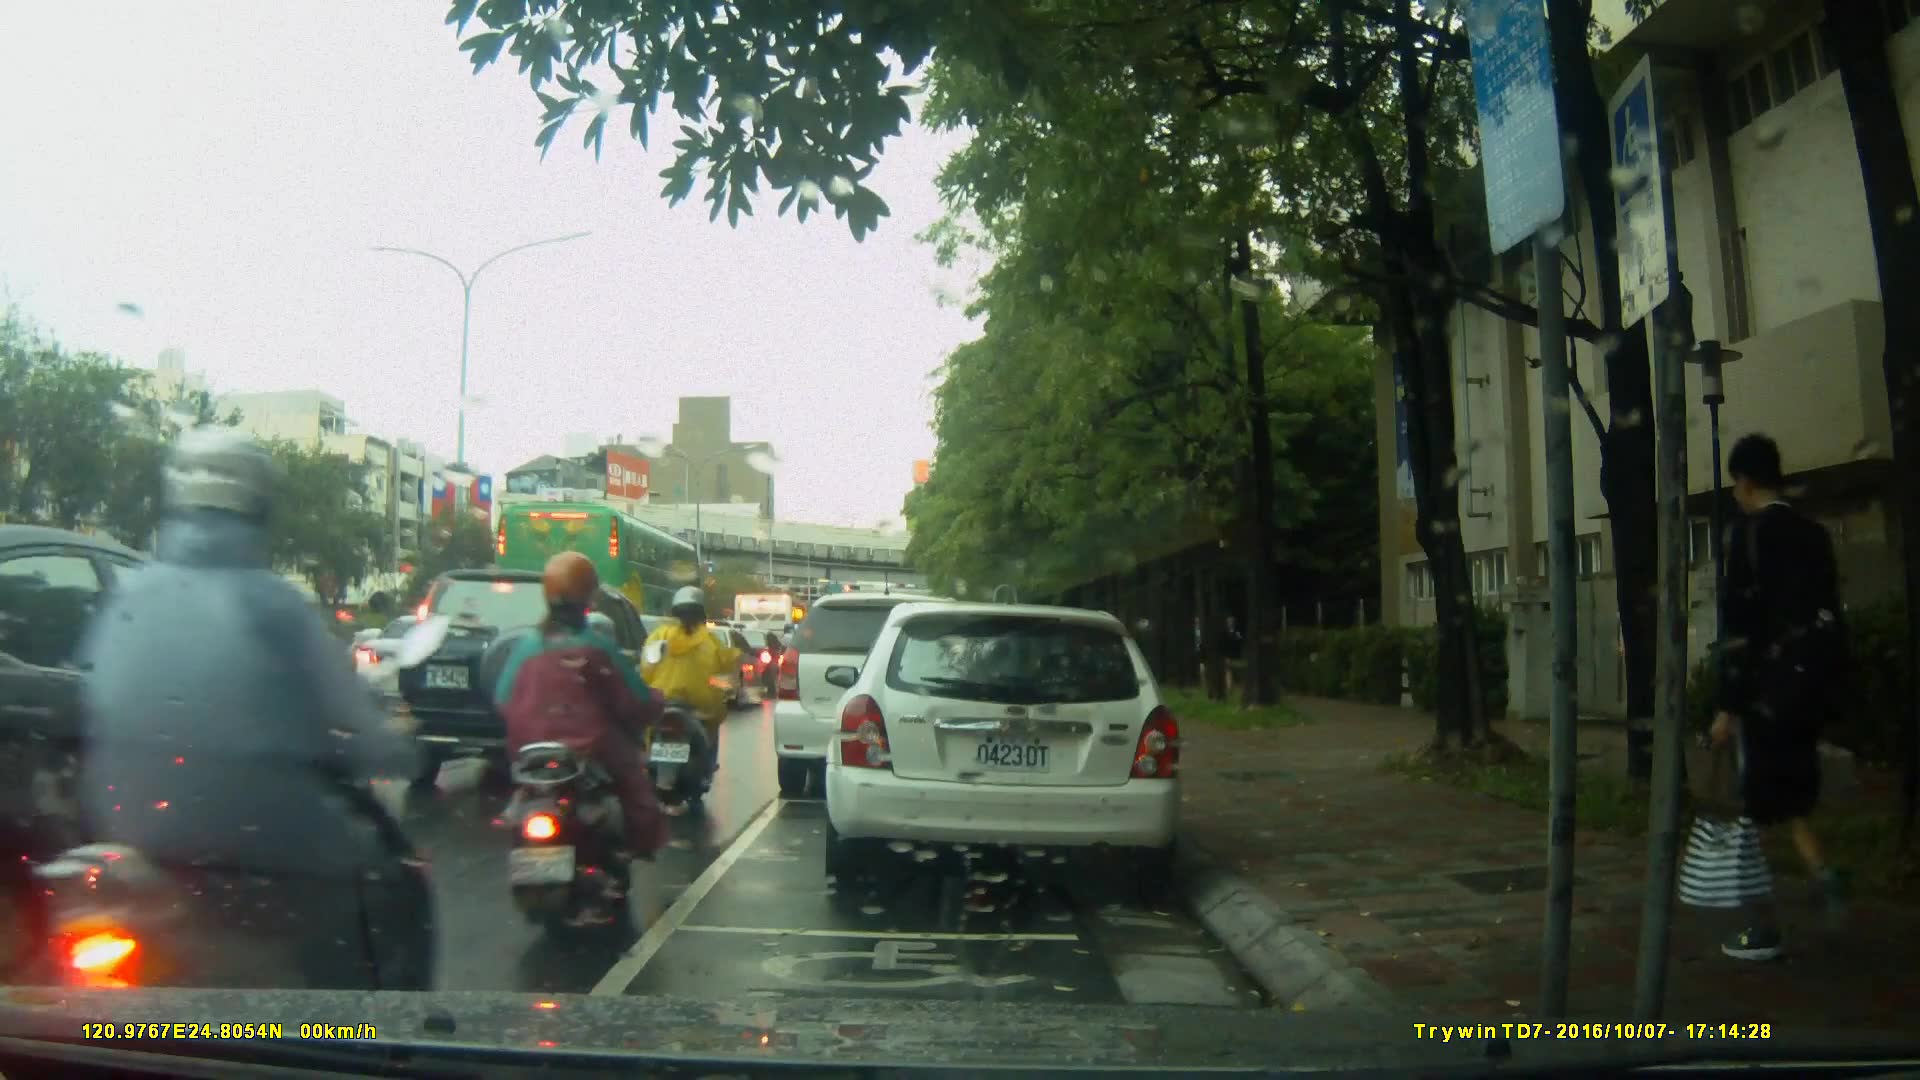pedestrian: (1671, 440, 1865, 993)
rider: (37, 420, 440, 1080), (496, 553, 657, 942), (168, 563, 279, 793), (643, 582, 741, 813)
vehicle: (5, 523, 382, 988), (831, 592, 1196, 897), (396, 566, 673, 798), (770, 592, 999, 800), (492, 498, 705, 658)
